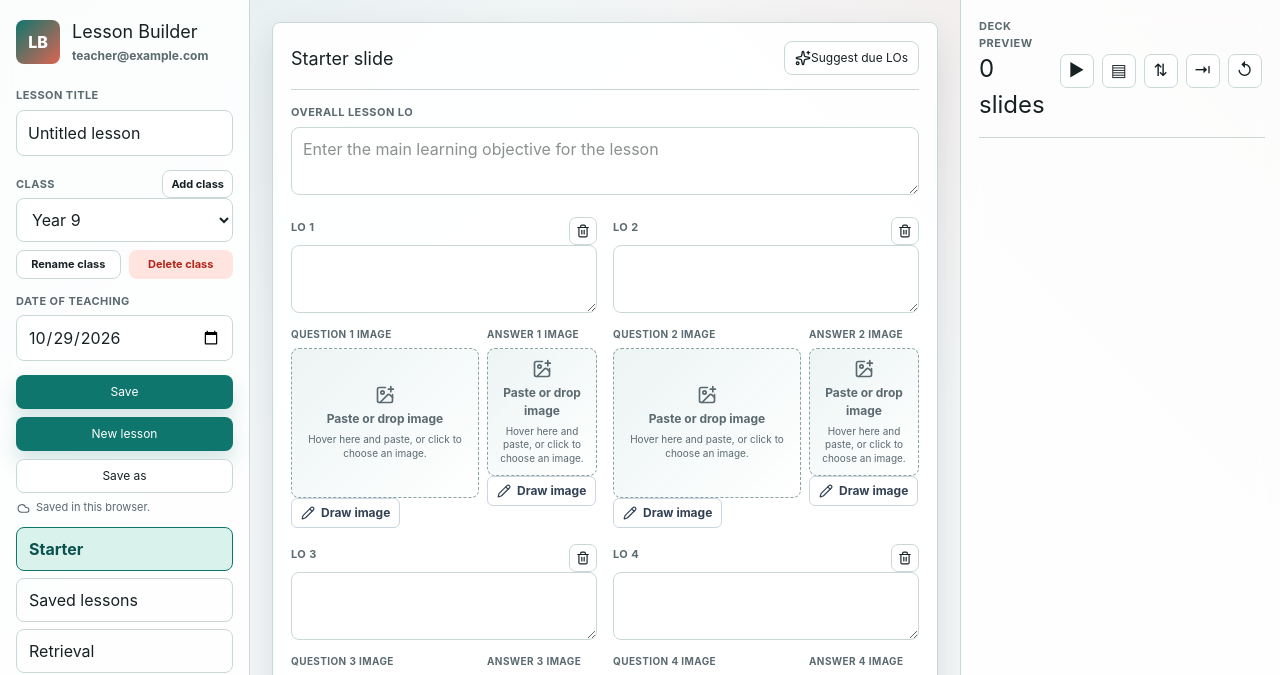
Test: BuilderShell legacy UI parity › renames and deletes the selected class from the sidebar controls
The width and height of the screenshot is (1280, 675).
Click the button "Rename class".
click(68, 264)  # box [16,250,120,278]
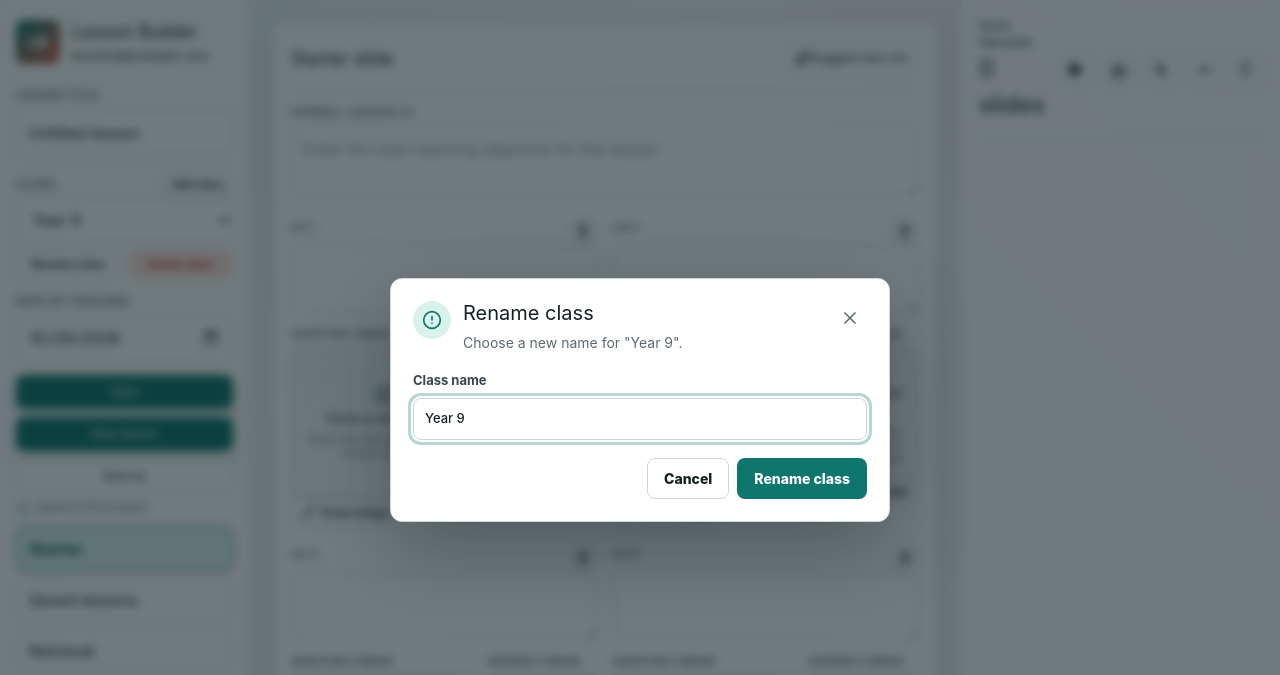
Replace the text in the field labelled "Class name" with "Year 9 Maths" at (640, 419), box [413,398,867,440]
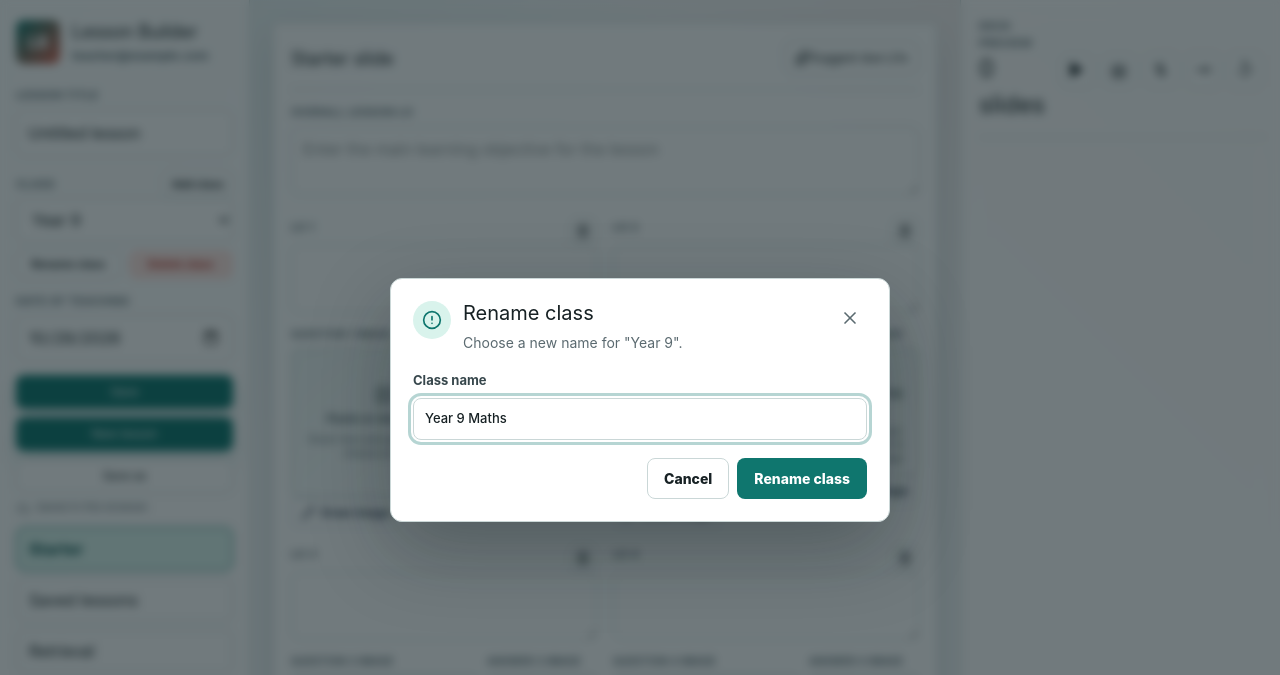
Click the button "Rename class".
click(802, 478)  # box [737,458,867,499]
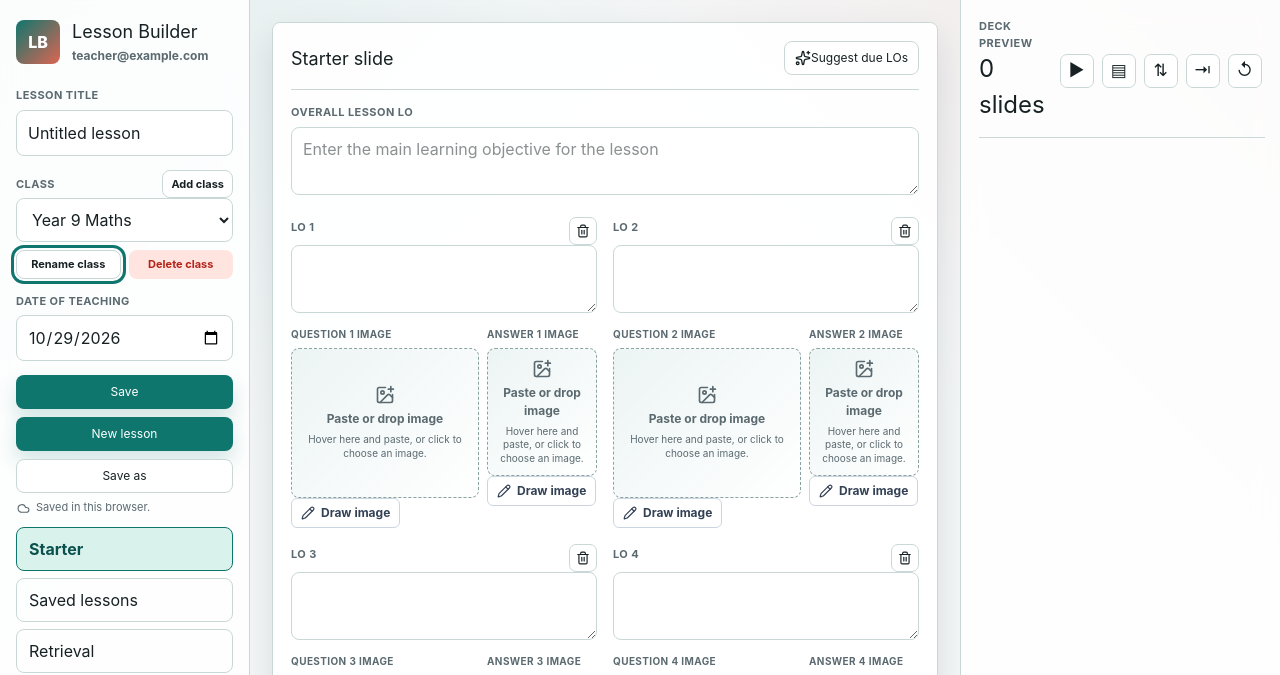
Expected: the dropdown labelled "Class" shows "Year 9 Maths", [16,198,233,242]
Click the button "Delete class".
click(181, 264)  # box [128,250,233,278]
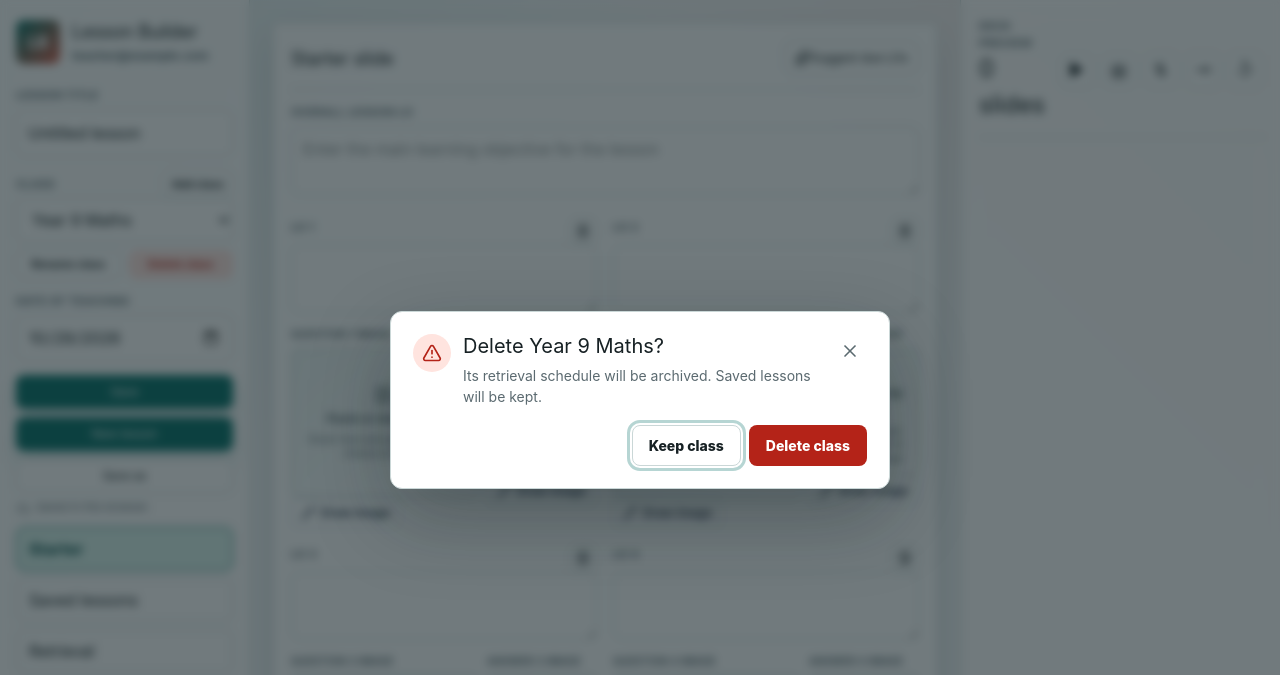
Click the button "Delete class".
click(808, 446)  # box [749,425,867,466]
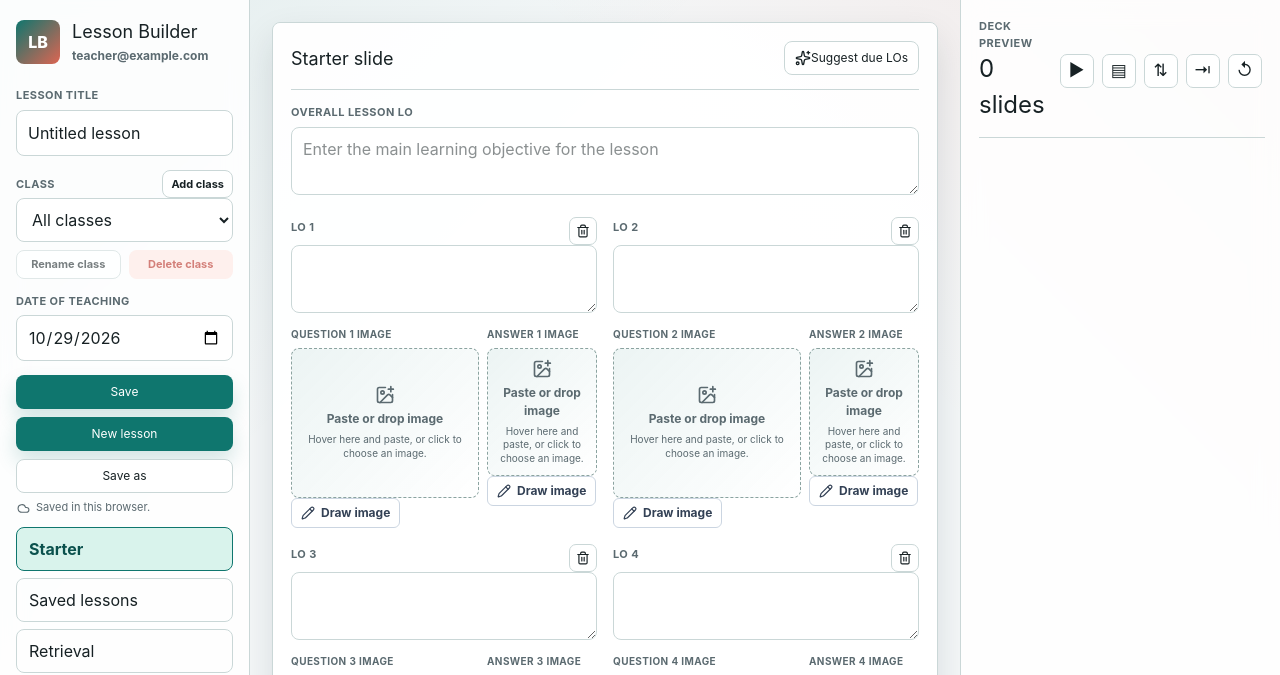
Expected: the dropdown labelled "Class" shows "All classes", [16,198,233,242]
